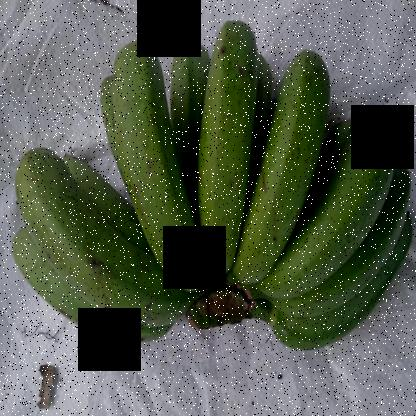unripe: (11, 136, 195, 295), (107, 23, 193, 302), (281, 103, 403, 295), (194, 1, 270, 286), (258, 37, 344, 239)
